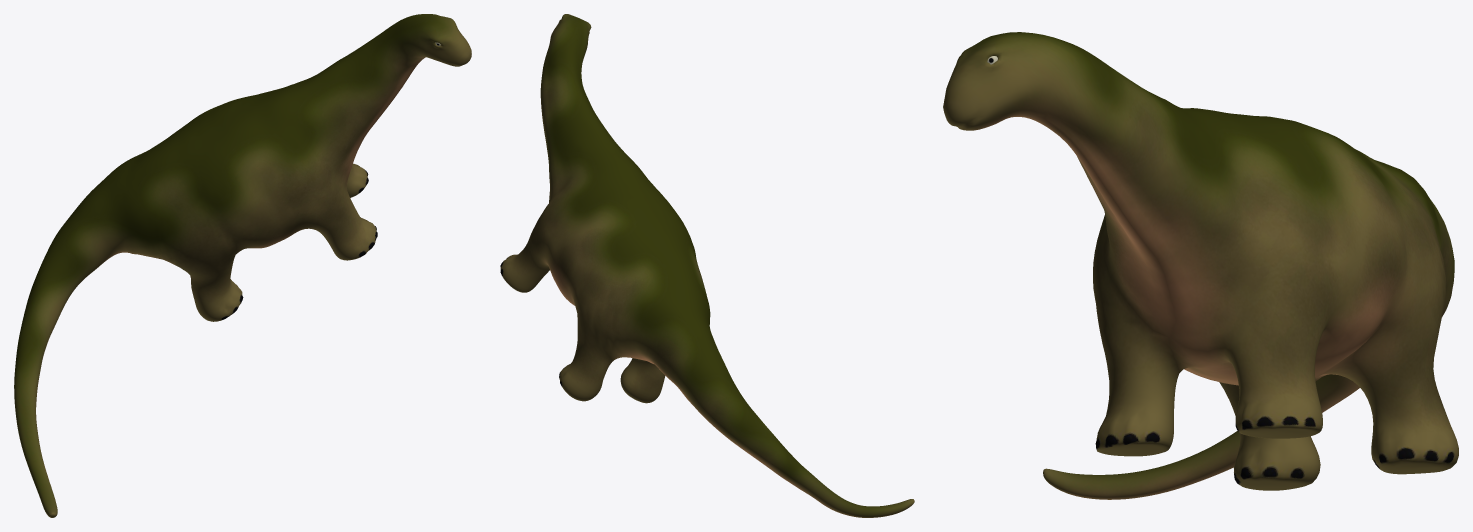
3 renders of one model, left to right at view 1: azimuth 30°, elevation 25°; view 2: azimuth 150°, elevation 25°; view 3: azimuth 270°, elevation 25°, orthographic. The views are drawn at different scales.
Parts seen in each view (by area): view 1: Bronto; view 2: Bronto; view 3: Bronto.
Boxes of the visible parts, x1,y1,x2,y2 form: Bronto: (14,14,471,517); Bronto: (500,14,914,517); Bronto: (943,32,1458,499).
Size of the model in its own units: 1.05 by 1.07 by 0.6266.
1 material, 1 textured.
